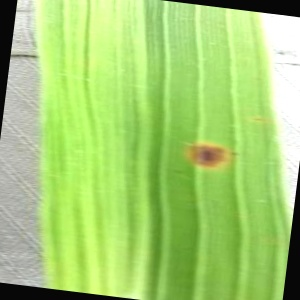Bacterial_Leaf_Blight: (177, 134, 234, 180), (249, 114, 267, 125), (229, 146, 241, 158)
